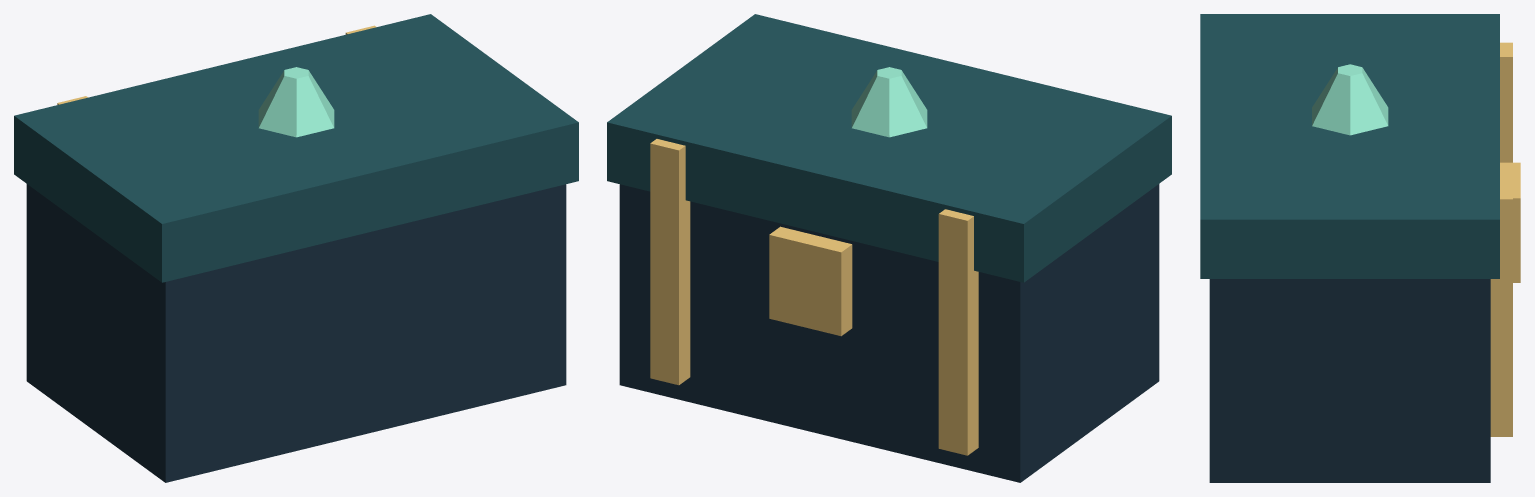
Rendered from VaultChest.obj.
The picture shows the model from 3 angles, left to right: view 1: azimuth 30°, elevation 25°; view 2: azimuth 150°, elevation 25°; view 3: azimuth 270°, elevation 25°; orthographic projection.
Size of the model in its own units: 2.6 by 1.85 by 1.71.
